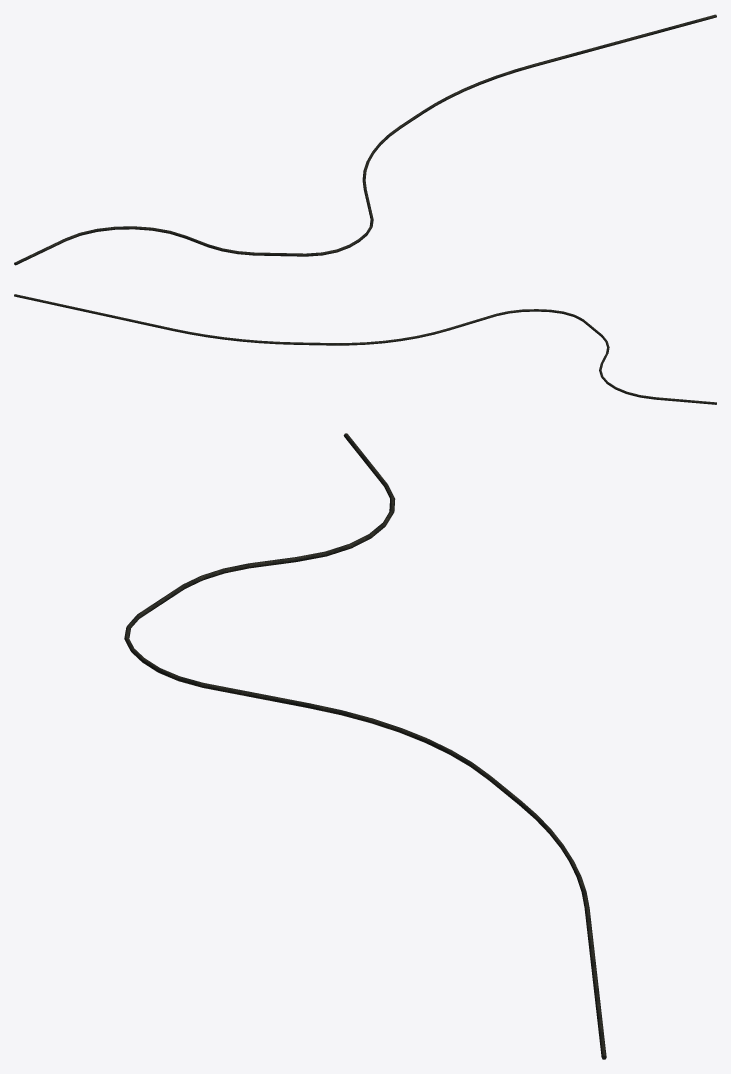
Rendered from Prop_Speaker_Cable.fbx.
3 views of the same model, one above another, from view 1: azimuth 30°, elevation 25°; view 2: azimuth 150°, elevation 25°; view 3: azimuth 270°, elevation 25° (orthographic). The views are drawn at different scales.
Visible parts, largest first — view 1: Prop_Speaker_Cable; view 2: Prop_Speaker_Cable; view 3: Prop_Speaker_Cable.
Part boxes in pixels (x1,y1,x2,y2): Prop_Speaker_Cable: [14, 14, 716, 265]; Prop_Speaker_Cable: [14, 294, 716, 404]; Prop_Speaker_Cable: [124, 433, 606, 1059].
Bounding box in the file's own units: 155 × 0.4668 × 50.71.
